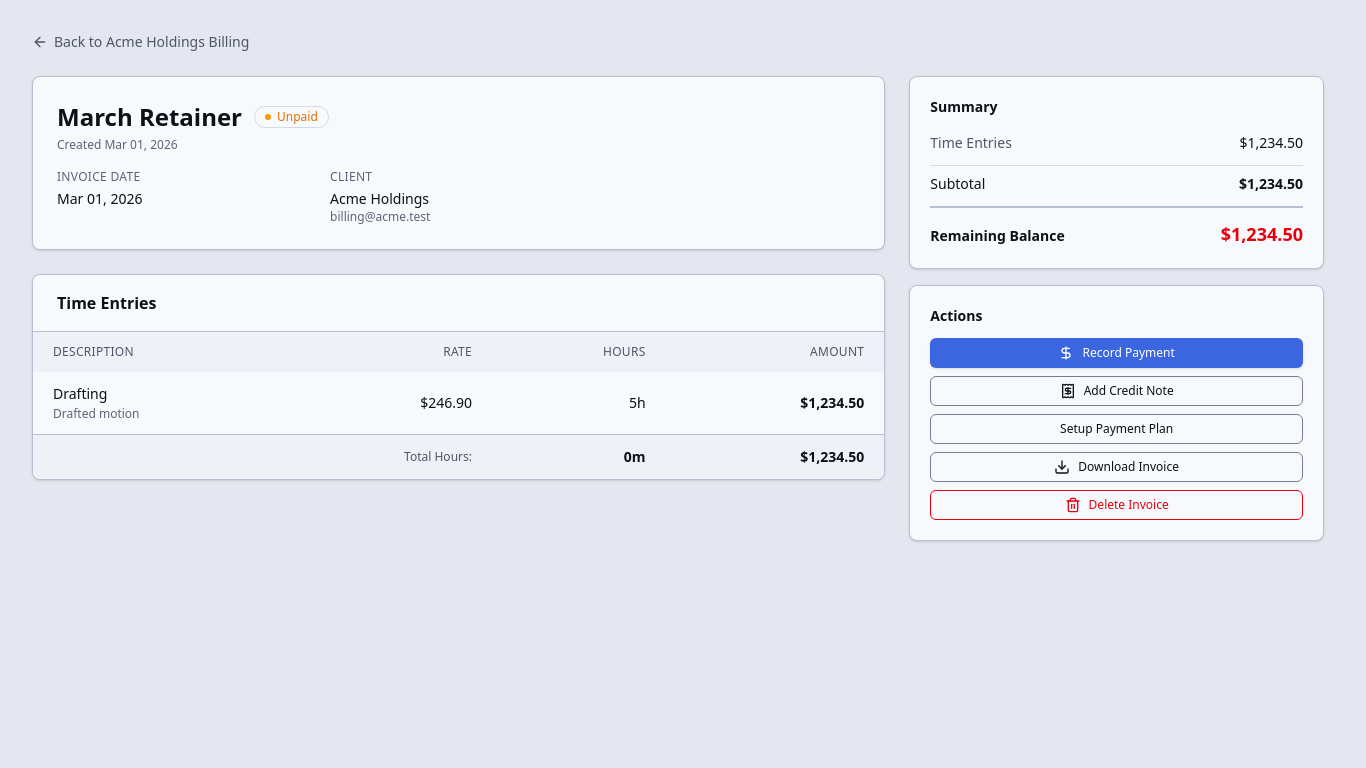
Scenario: recording a payment › refuses 10.999 under the amount field and sends nothing
This screenshot has width=1366, height=768.
Expected: the heading "March Retainer" is shown, [57, 101, 242, 133]
Click the button "Record Payment".
click(1117, 353)  # box [930, 338, 1303, 368]
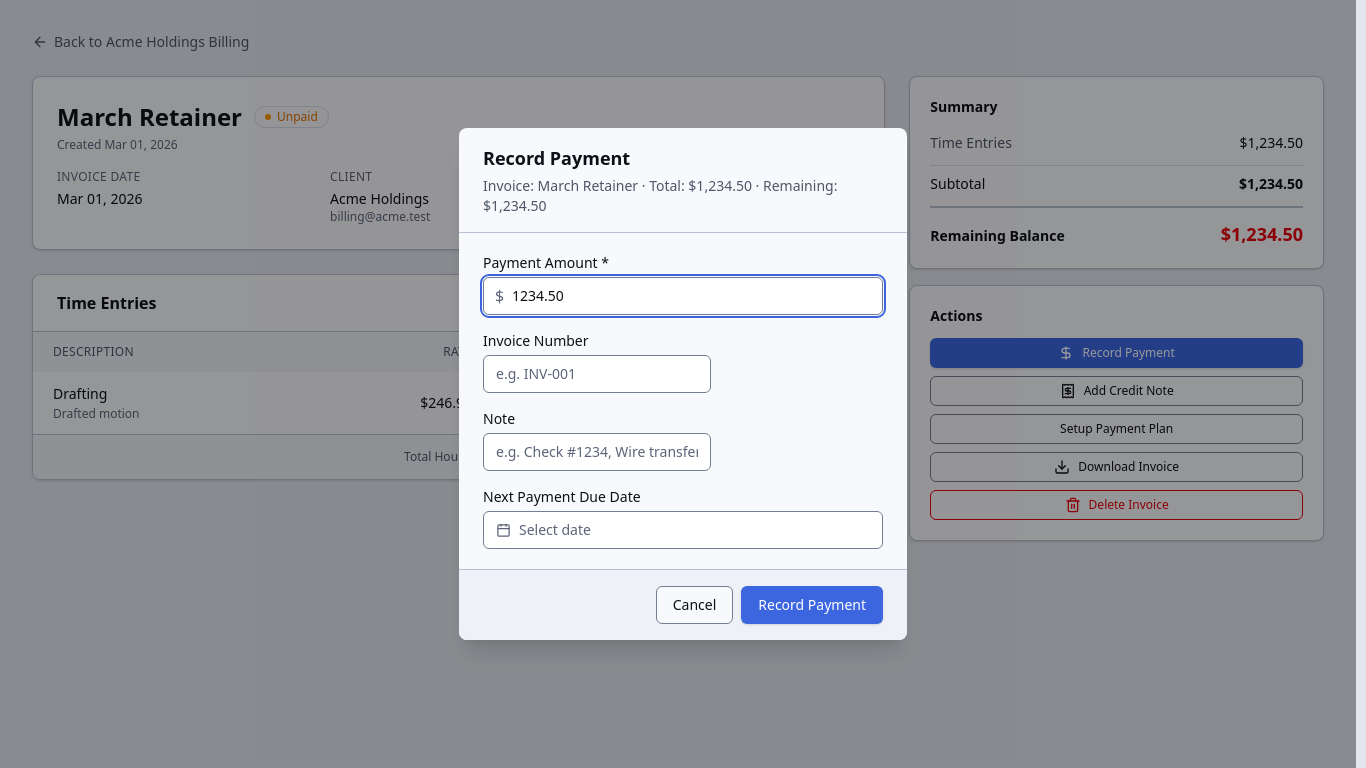
Replace the text in the number field with placeholder "0.00" with "10.999" at (683, 296), box [483, 277, 883, 315]
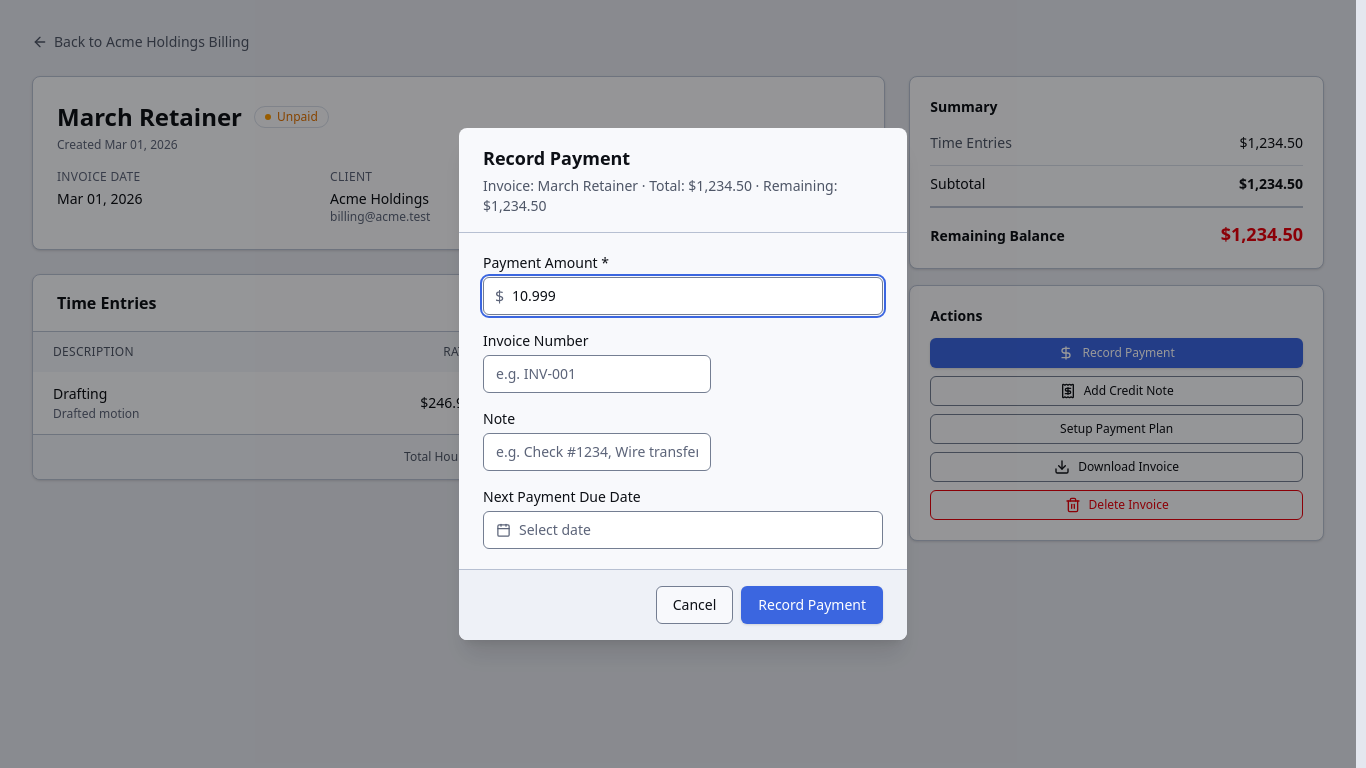
Click the button "Record Payment".
click(812, 605)  # box [741, 586, 883, 624]
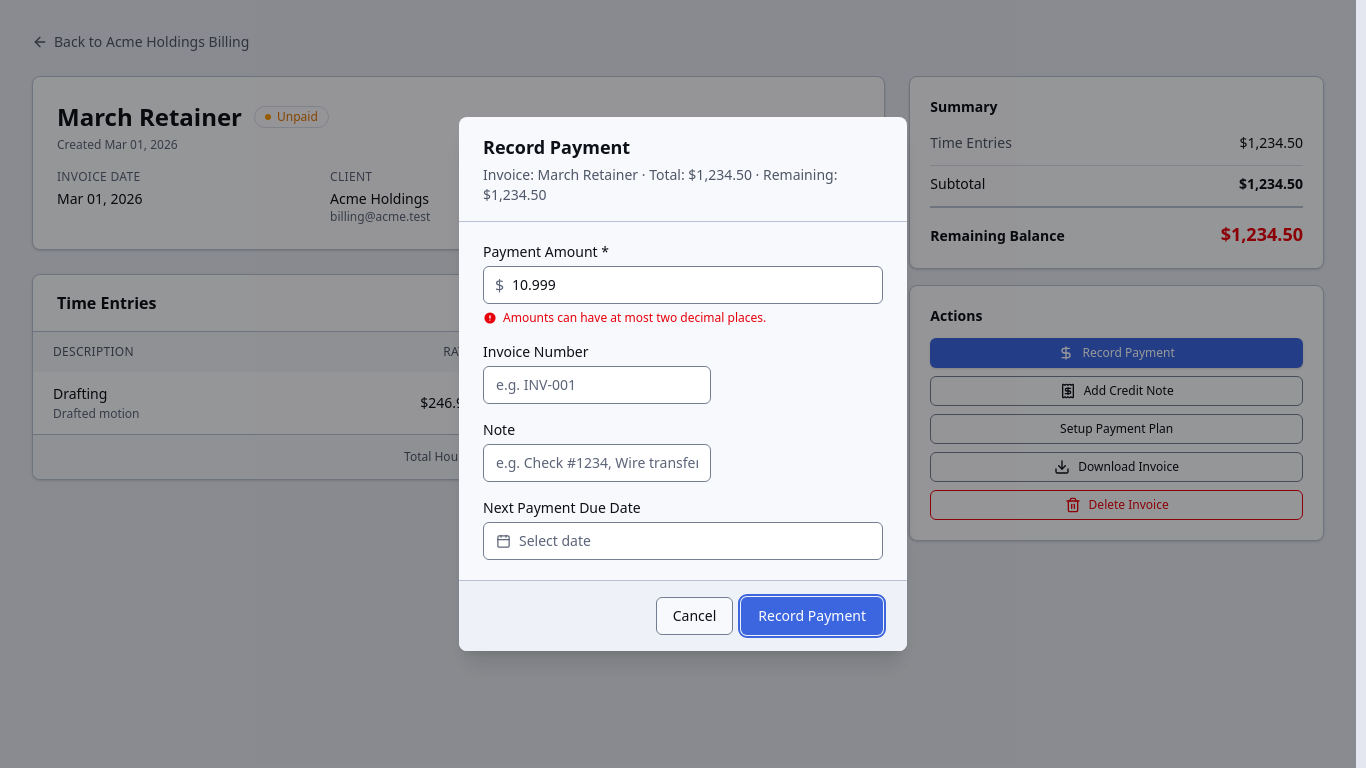
Result: the message reads "Amounts can have at most two decimal places." at [503, 309, 766, 326]
